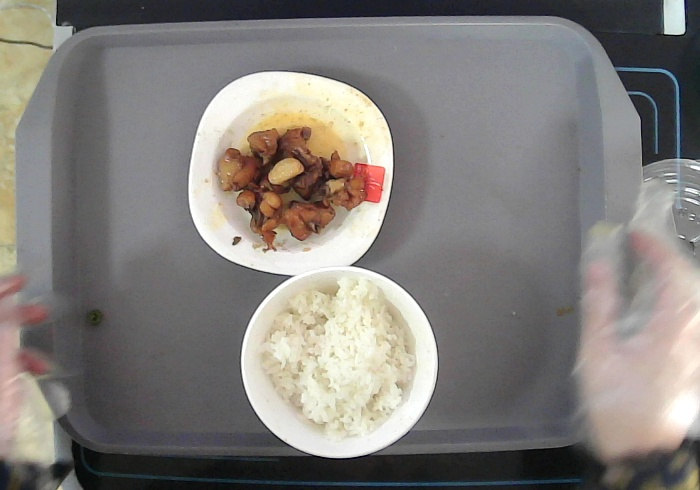SHKJ-Bai_Se_Si_Fang_Cai_Die: (187, 70, 394, 276)
SHKJ-Fan_Wan: (240, 265, 438, 460)
